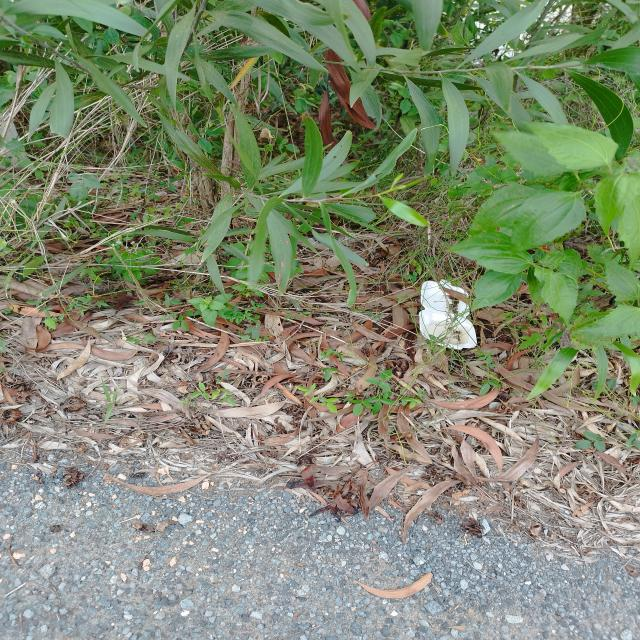foam box: (418, 279, 476, 350)
